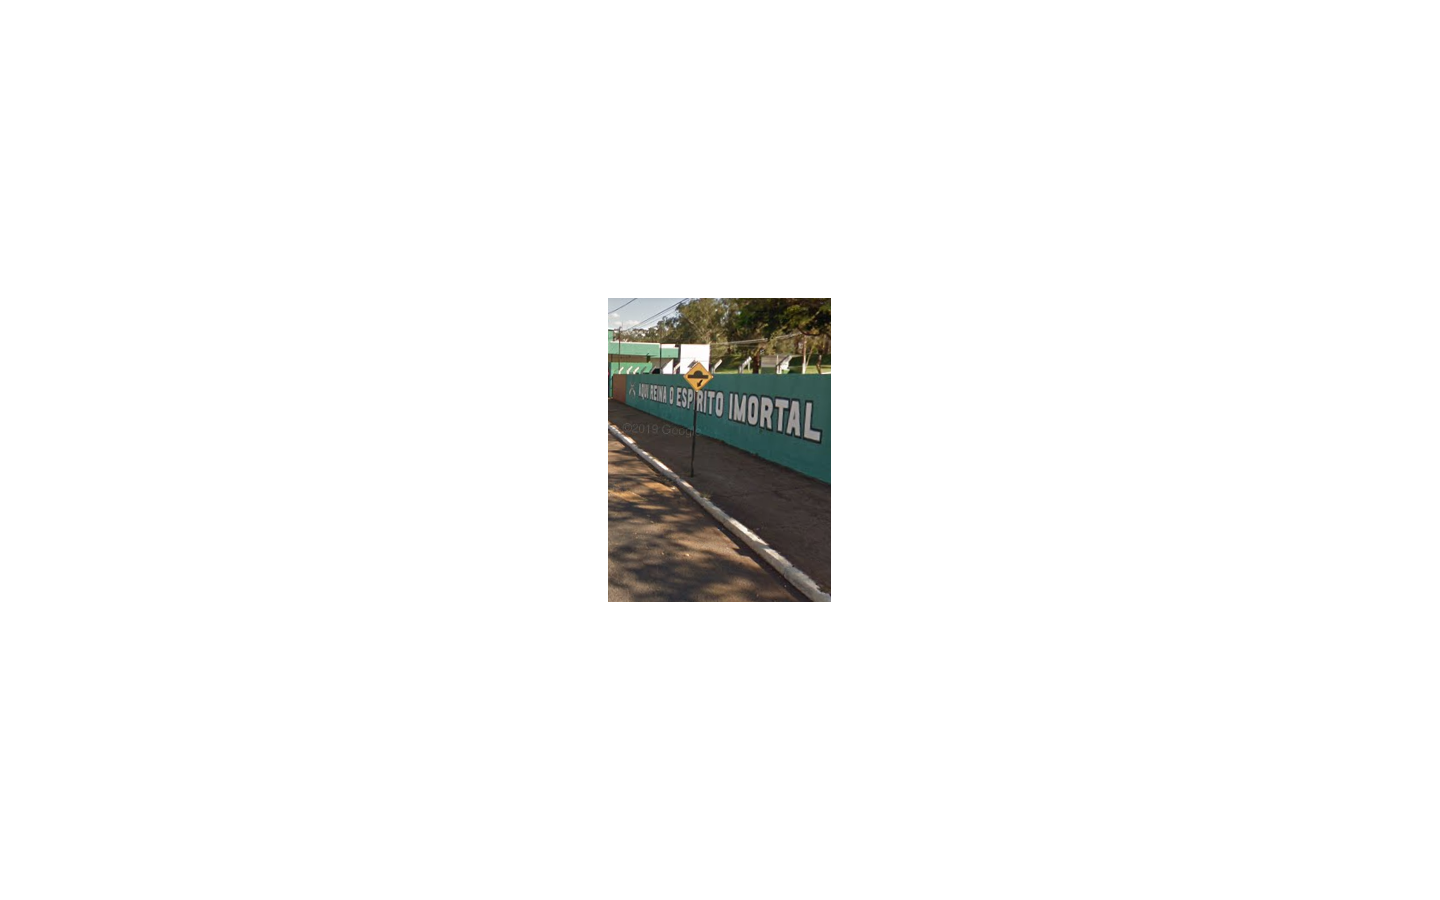lomb: (683, 362, 713, 392)
